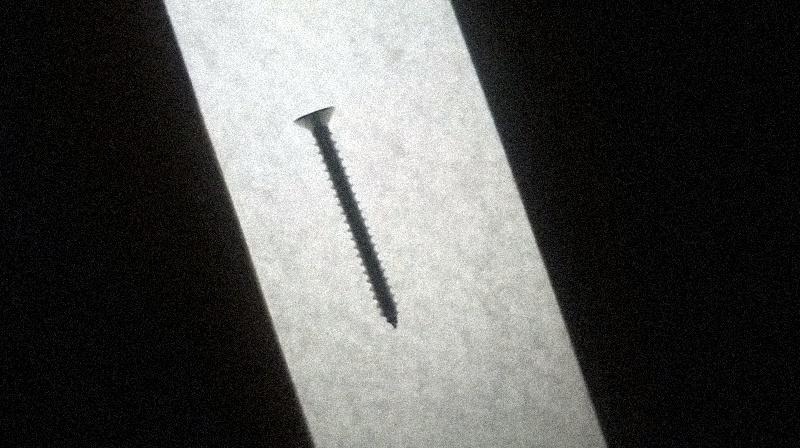S002: (290, 102, 401, 330)
